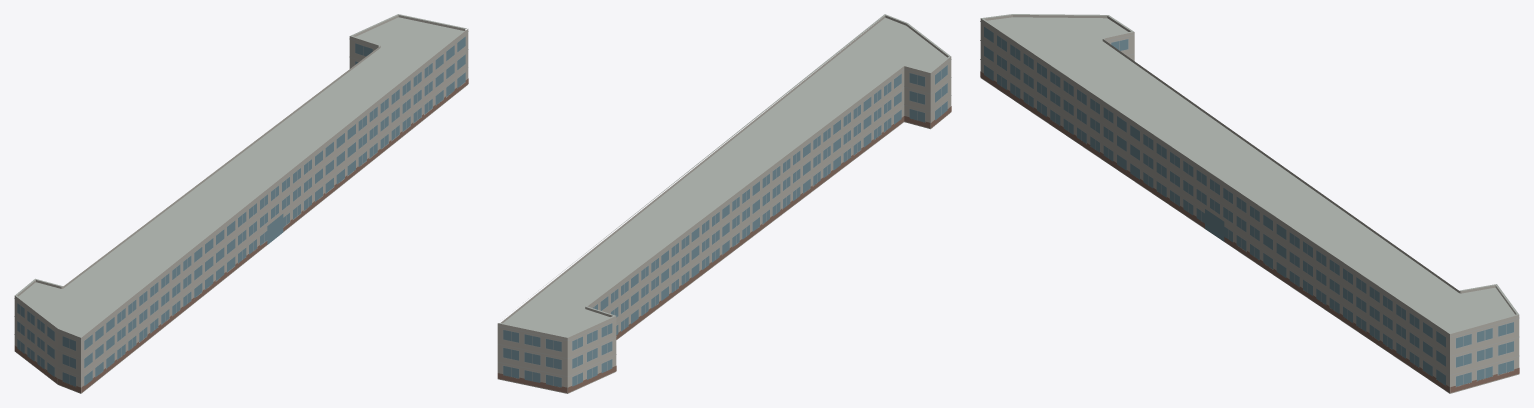
File: public-44d7e89e-dce0-4ff9-b97e-673c1103a395.glb
The picture shows the model from 3 angles, left to right: view 1: azimuth 30°, elevation 25°; view 2: azimuth 210°, elevation 25°; view 3: azimuth 270°, elevation 25°; orthographic projection. The views are drawn at different scales.
Parts seen in each view (by area): view 1: public-44d7e89e-dce0-4ff9-b97e-673c1103a395; view 2: public-44d7e89e-dce0-4ff9-b97e-673c1103a395; view 3: public-44d7e89e-dce0-4ff9-b97e-673c1103a395.
Boxes of the visible parts, x1=… form: public-44d7e89e-dce0-4ff9-b97e-673c1103a395: x1=14, y1=14, x2=468, y2=393; public-44d7e89e-dce0-4ff9-b97e-673c1103a395: x1=497, y1=14, x2=951, y2=393; public-44d7e89e-dce0-4ff9-b97e-673c1103a395: x1=980, y1=14, x2=1519, y2=393.
Bounding box in the file's own units: 105 × 9.15 × 74.85.
